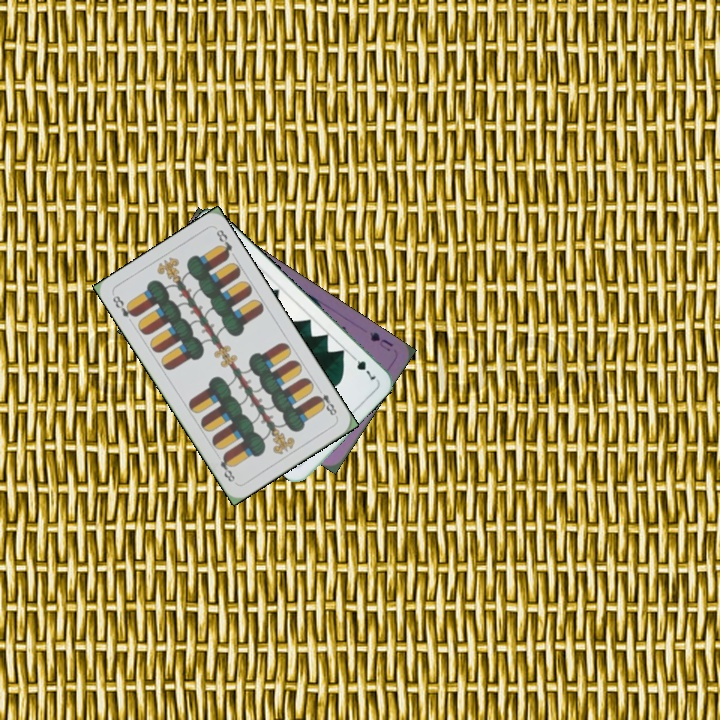E8: (311, 383, 339, 420), (108, 291, 139, 320)
G7: (347, 350, 379, 383)
GU: (365, 328, 395, 354)
